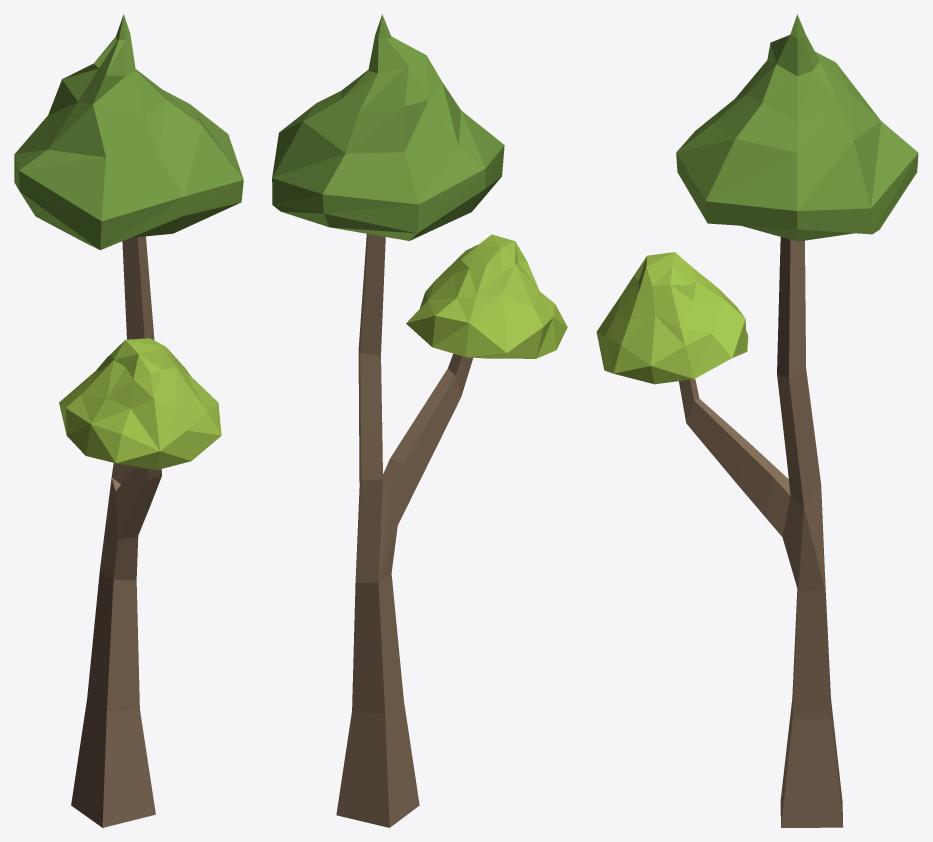
The model's file is Tree_2.fbx.
The picture shows the model from 3 angles, left to right: view 1: azimuth 30°, elevation 25°; view 2: azimuth 150°, elevation 25°; view 3: azimuth 270°, elevation 25°; orthographic projection.
Visible parts, largest first — view 1: M_Tree 2; view 2: M_Tree 2; view 3: M_Tree 2.
Part boxes in pixels (x1,y1,x2,y2): M_Tree 2: (14, 14, 243, 827); M_Tree 2: (272, 14, 567, 827); M_Tree 2: (596, 14, 918, 827).
Bounding box in the file's own units: 55.22 × 196 × 71.36.
1 material, 1 textured.
